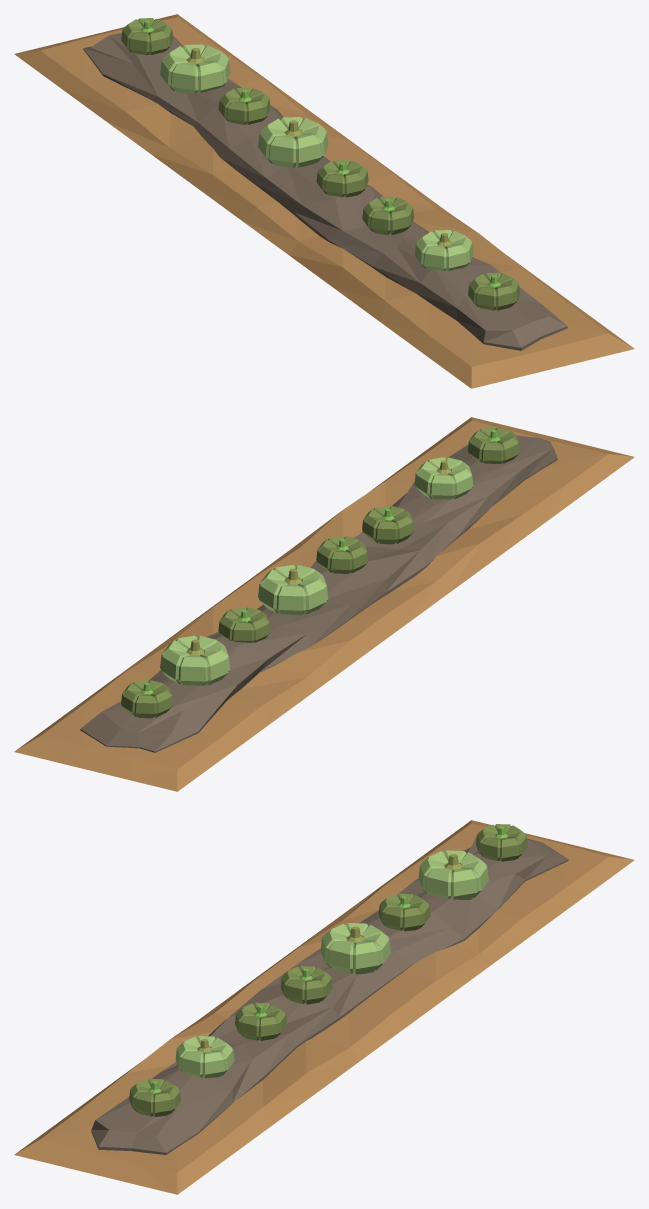
File: field_a_ready.gltf
3 views of the same model, one above another, from view 1: azimuth 30°, elevation 25°; view 2: azimuth 150°, elevation 25°; view 3: azimuth 330°, elevation 25° (orthographic).
Visible parts, largest first — view 1: field_a_ready001; view 2: field_a_ready001; view 3: field_a_ready001.
Boxes of the visible parts, left/top/right/bottom form: field_a_ready001: left=14, top=14, right=634, bottom=388; field_a_ready001: left=14, top=417, right=634, bottom=791; field_a_ready001: left=14, top=820, right=634, bottom=1194.
Bounding box in the file's own units: 1.05 × 0.3544 × 5.09.
1 material, 1 textured.
